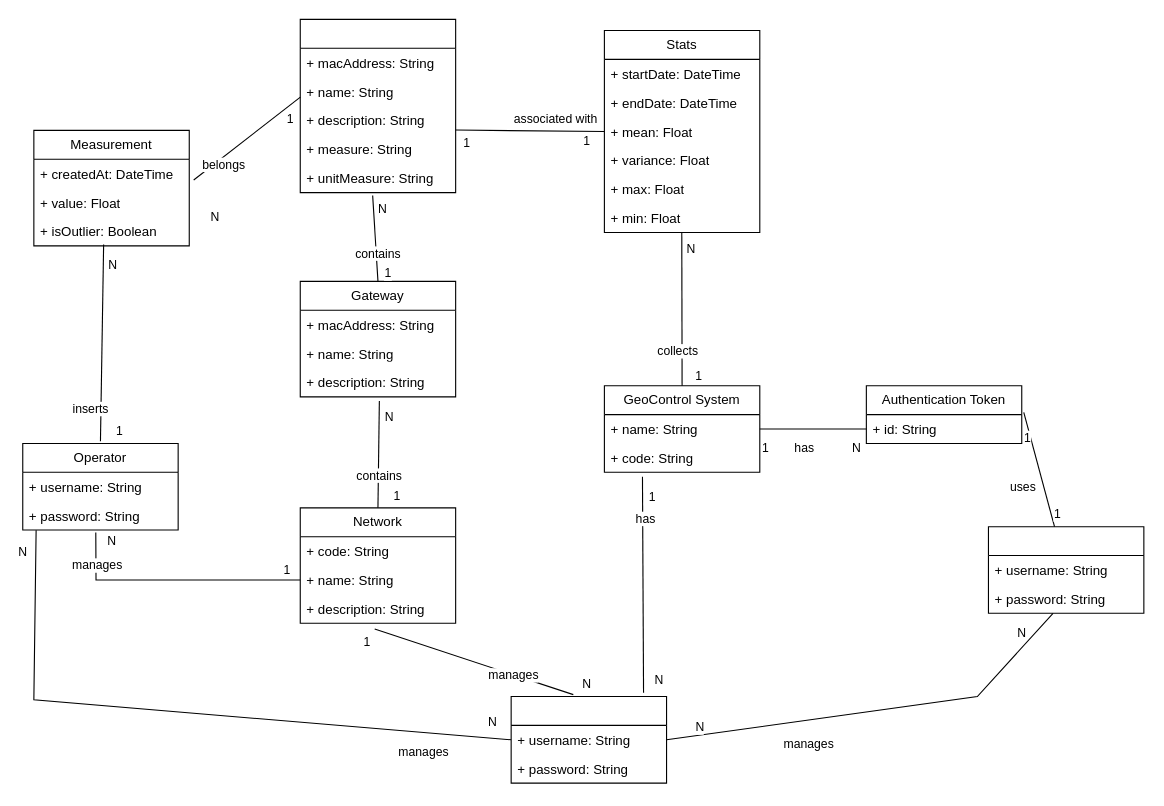
This 1164x806 diagram has some shape labels left out. Here are the shapes that lost their labels. From the top down, the box of each, then its label:
(299, 18, 456, 193): Sensor
(987, 526, 1144, 613): Viewer
(510, 695, 667, 783): Administrator
